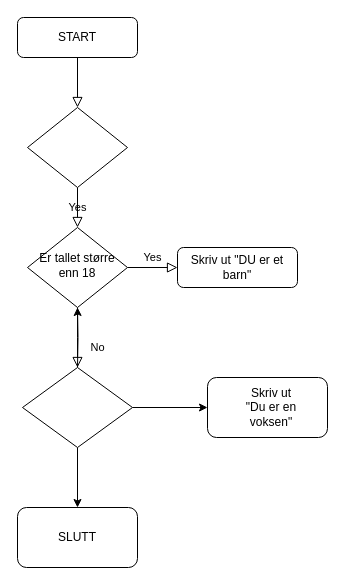
This 345x585 diagram has some shape labels left out. The centre of each missing label's shape, as x and y in pixels:
Er mindre enn 18: [77,407]
Les inn tall "alder": [77,147]
